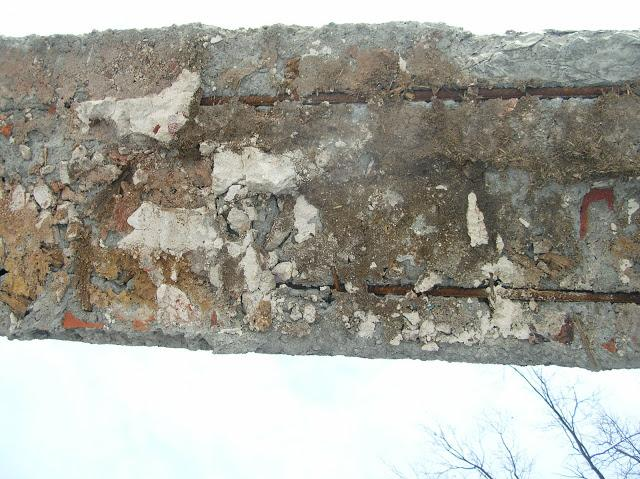spalling: (0, 22, 640, 370)
